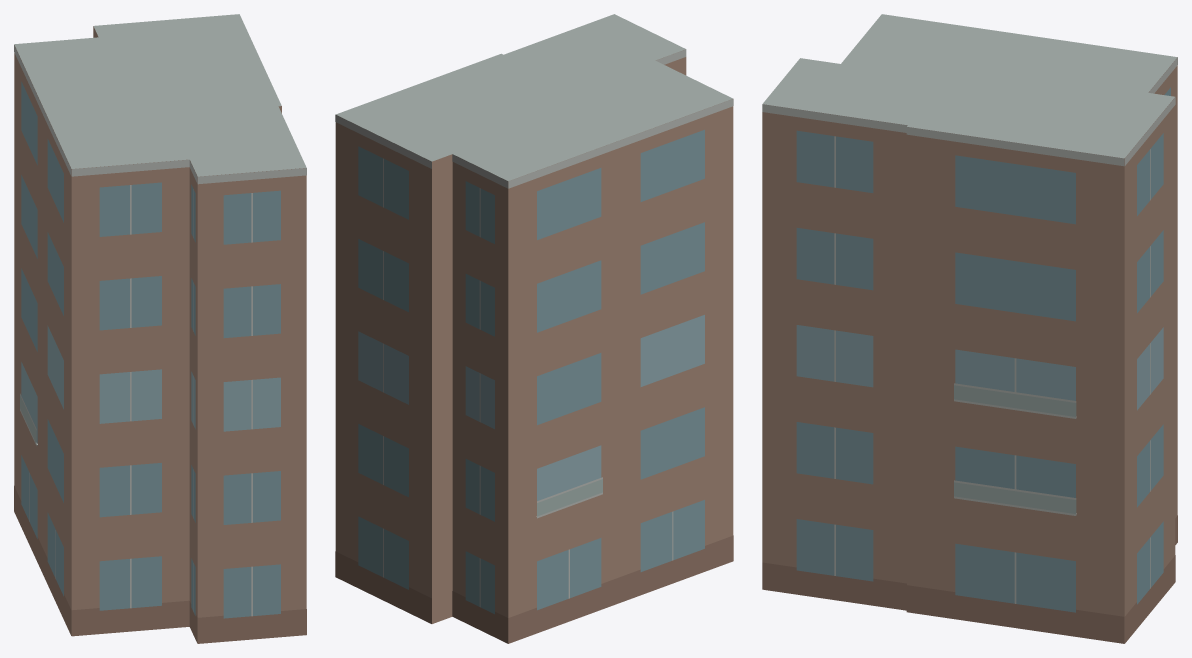
Rendered from survey-upis-32940959.glb.
The picture shows the model from 3 angles, left to right: view 1: azimuth 30°, elevation 25°; view 2: azimuth 150°, elevation 25°; view 3: azimuth 270°, elevation 25°; orthographic projection. The views are drawn at different scales.
Visible parts, largest first — view 1: survey-upis-32940959.tmp; view 2: survey-upis-32940959.tmp; view 3: survey-upis-32940959.tmp.
Part boxes in pixels (x1,y1,x2,y2): survey-upis-32940959.tmp: (14, 14, 306, 643); survey-upis-32940959.tmp: (335, 14, 733, 643); survey-upis-32940959.tmp: (762, 14, 1177, 643).
Size of the model in its own units: 9.58 by 15 by 11.64.
